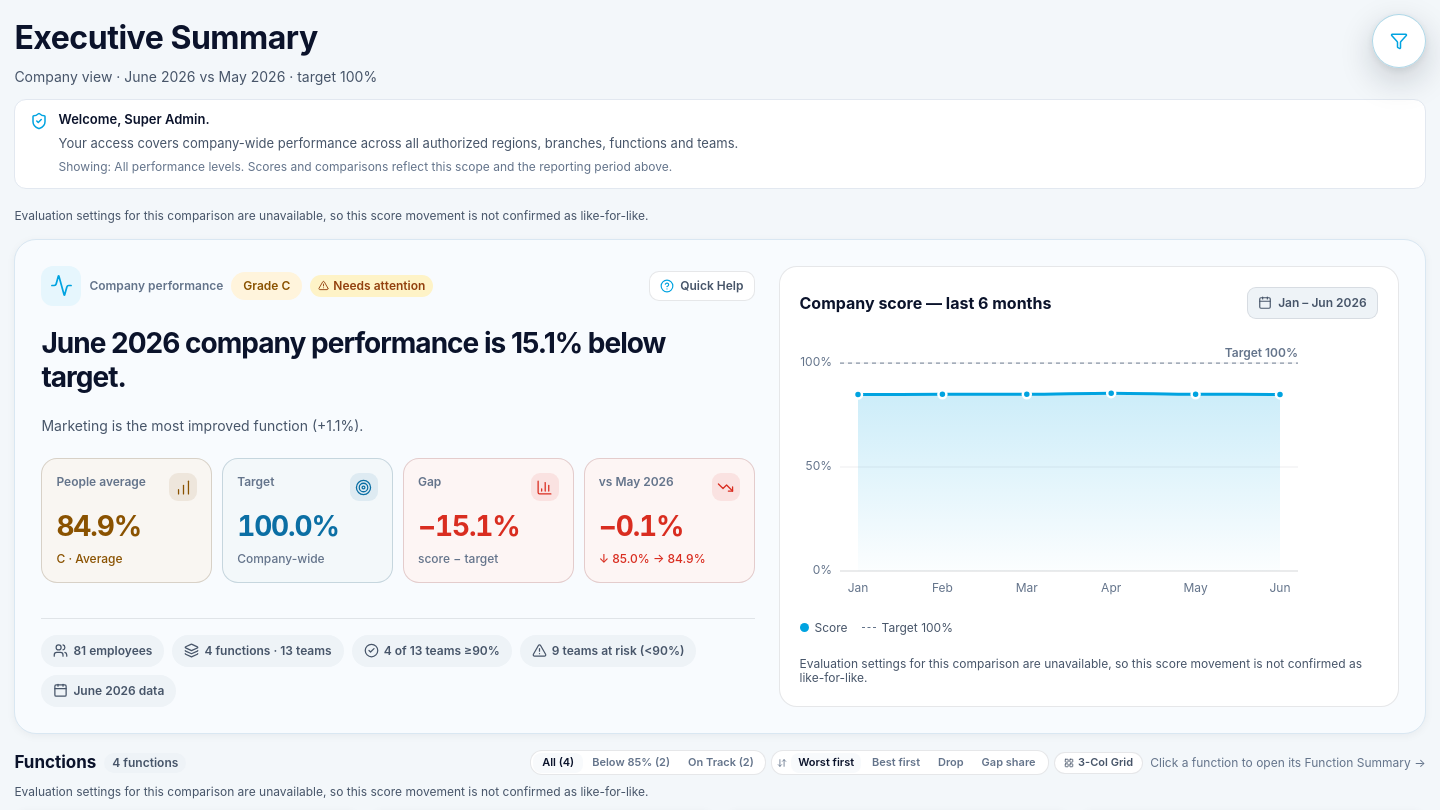
DepartmentalSummaryView role routing › treats legacy All filter values as unfiltered when returning from other dashboards
Click the button named "Departmental filters" at (1399, 41), box [1372,14,1426,68]
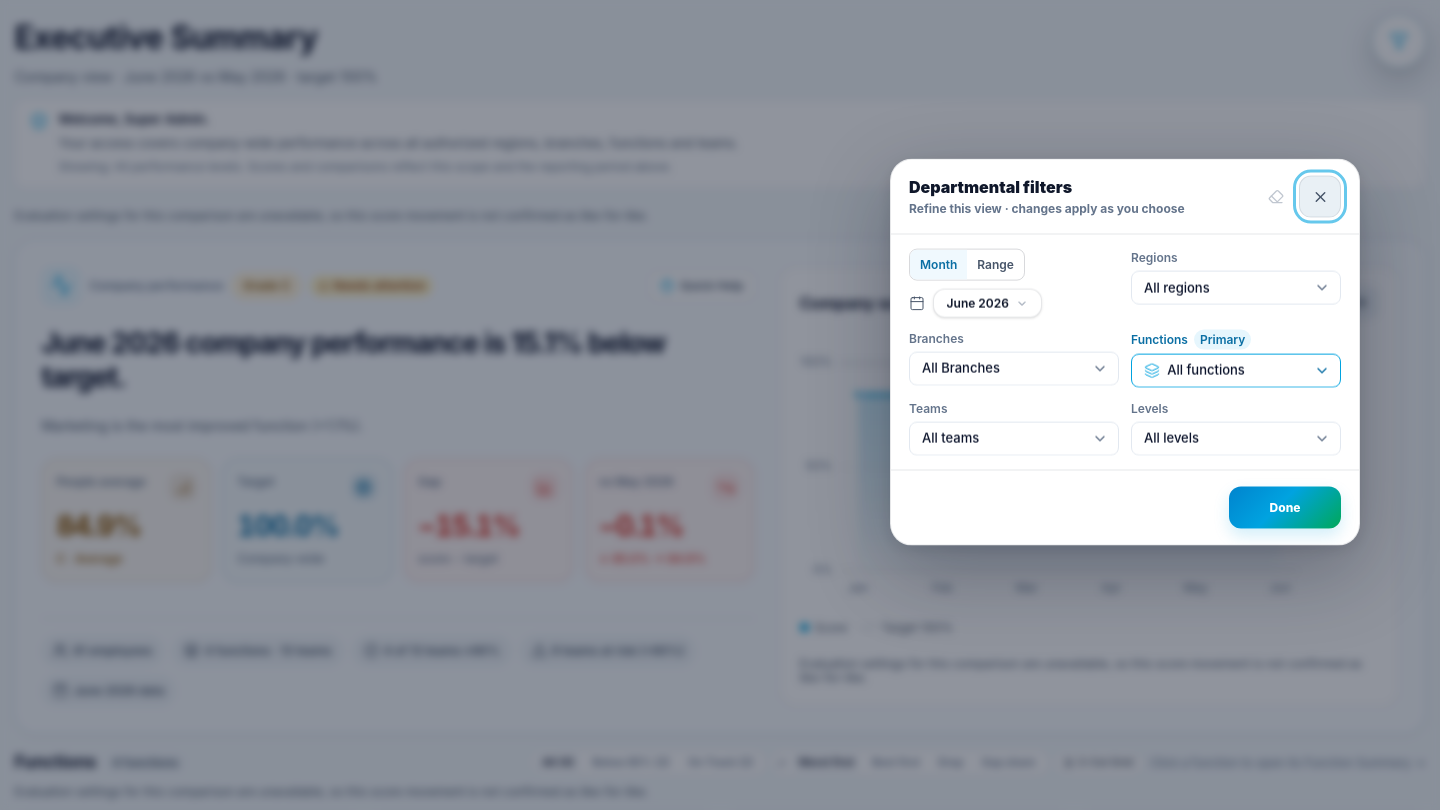
Expected: the dropdown named "Region" shows "All regions", [1130,270,1159,306]
